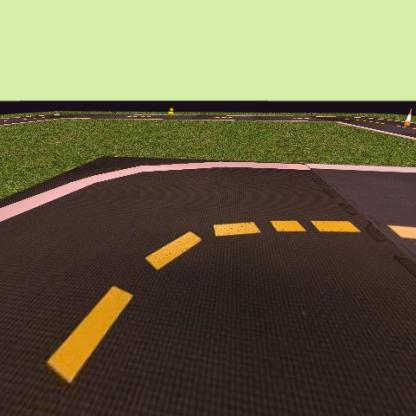Cone: (404, 106, 413, 129)
Duckie: (167, 106, 176, 119)
